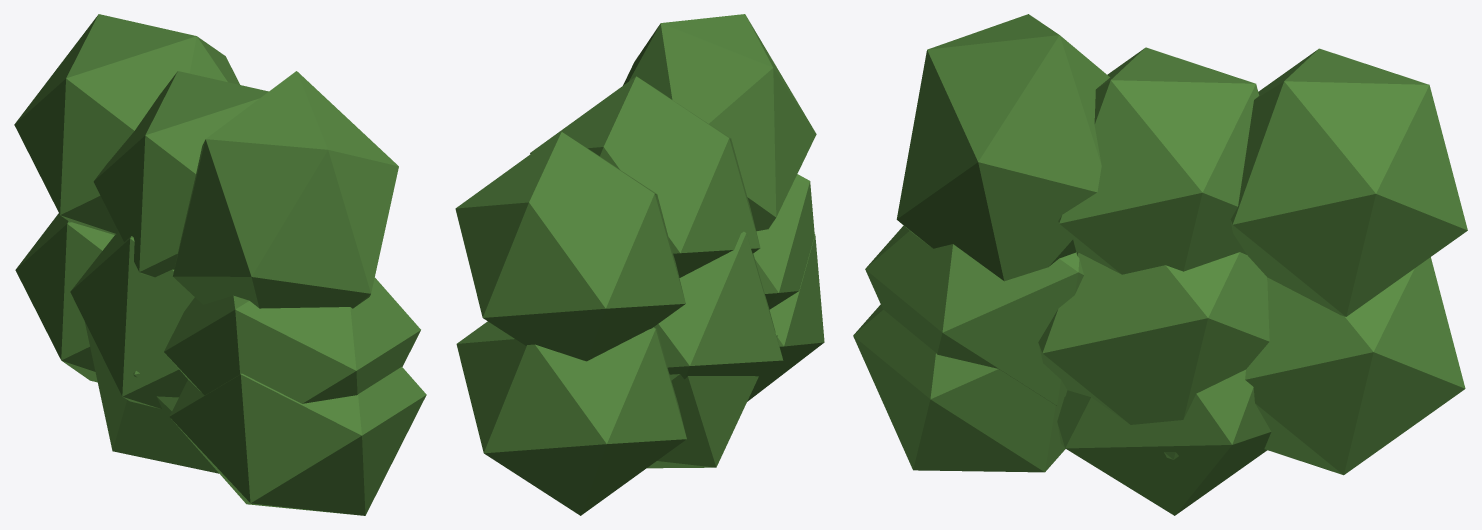
The model's file is Bushes.fbx.
The picture shows the model from 3 angles, left to right: view 1: azimuth 30°, elevation 25°; view 2: azimuth 150°, elevation 25°; view 3: azimuth 270°, elevation 25°; orthographic projection. The views are drawn at different scales.
Parts seen in each view (by area): view 1: Bushes; view 2: Bushes; view 3: Bushes.
Boxes of the visible parts, box(x1,y1,x2,y2) form: Bushes: box(14, 14, 426, 515); Bushes: box(455, 14, 824, 515); Bushes: box(853, 14, 1467, 515).
Bounding box in the file's own units: 70.82 × 120 × 140.
